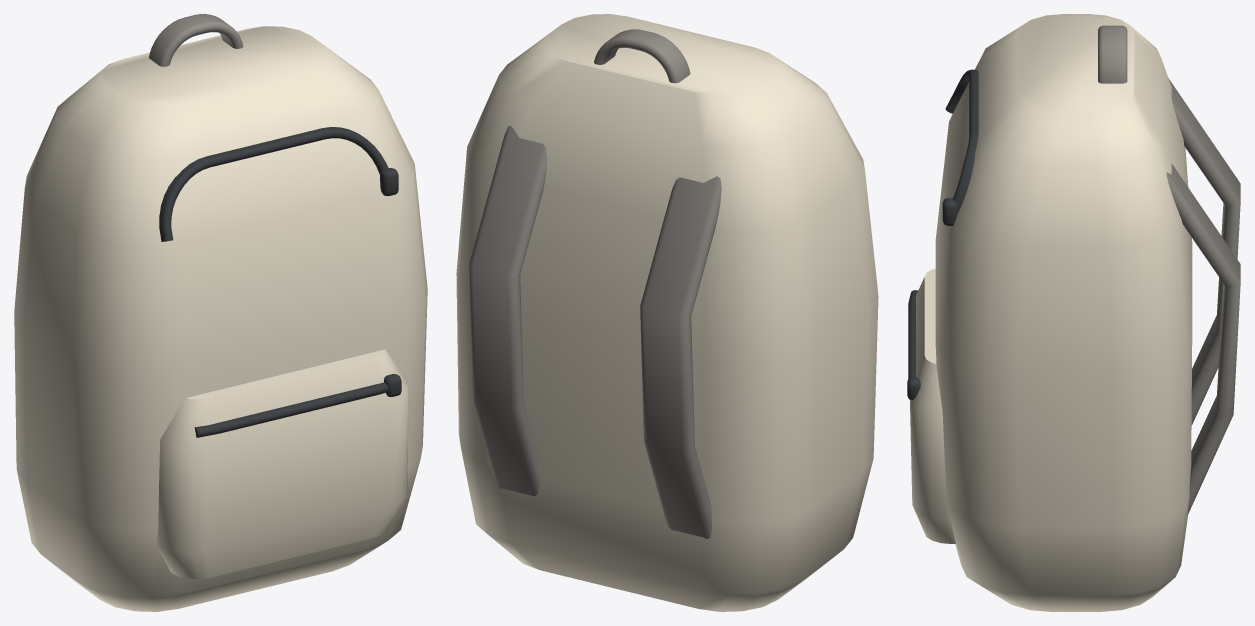
The model's file is bagage_sac_a_dos.glb.
The picture shows the model from 3 angles, left to right: view 1: azimuth 30°, elevation 25°; view 2: azimuth 150°, elevation 25°; view 3: azimuth 270°, elevation 25°; orthographic projection. The views are drawn at different scales.
Parts seen in each view (by area): view 1: DOS_Coque, DOS_Sombre, DOS_Sangles; view 2: DOS_Coque, DOS_Sangles; view 3: DOS_Coque, DOS_Sangles, DOS_Sombre.
Boxes of the visible parts, x1=… form: DOS_Coque: x1=14, y1=26, x2=427, y2=611; DOS_Sombre: x1=159, y1=127, x2=401, y2=437; DOS_Sangles: x1=149, y1=14, x2=243, y2=66; DOS_Coque: x1=456, y1=14, x2=878, y2=611; DOS_Sangles: x1=469, y1=29, x2=721, y2=538; DOS_Coque: x1=910, y1=14, x2=1192, y2=611; DOS_Sangles: x1=1098, y1=25, x2=1240, y2=514; DOS_Sombre: x1=907, y1=69, x2=978, y2=400.
Bounding box in the file's own units: 0.32 × 0.4685 × 0.2729.
